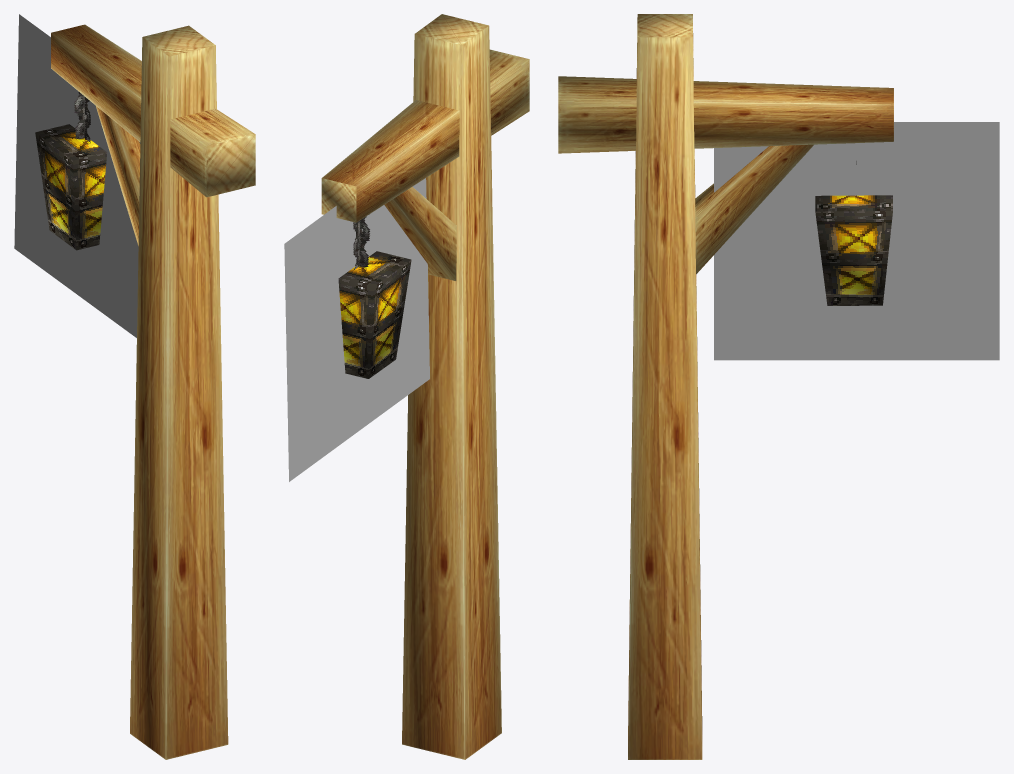
File: lamppost.obj
3 renders of one model, left to right at view 1: azimuth 30°, elevation 25°; view 2: azimuth 150°, elevation 25°; view 3: azimuth 270°, elevation 25°, orthographic. The views are drawn at different scales.
Visible parts, largest first — view 1: Geoset0, Geoset3, Geoset2, Geoset1; view 2: Geoset0, Geoset3, Geoset2, Geoset1; view 3: Geoset0, Geoset3, Geoset2.
Boxes of the visible parts, x1,y1,x2,y2 form: Geoset0: (51, 24, 255, 759); Geoset3: (14, 14, 140, 337); Geoset2: (35, 124, 107, 250); Geoset1: (74, 92, 90, 142); Geoset0: (321, 14, 529, 759); Geoset3: (284, 178, 429, 481); Geoset2: (338, 251, 411, 378); Geoset1: (353, 214, 369, 270); Geoset0: (558, 14, 893, 759); Geoset3: (714, 122, 999, 360); Geoset2: (815, 195, 892, 305).
Bounding box in the file's own units: 0.402 × 4.1 × 2.28.
